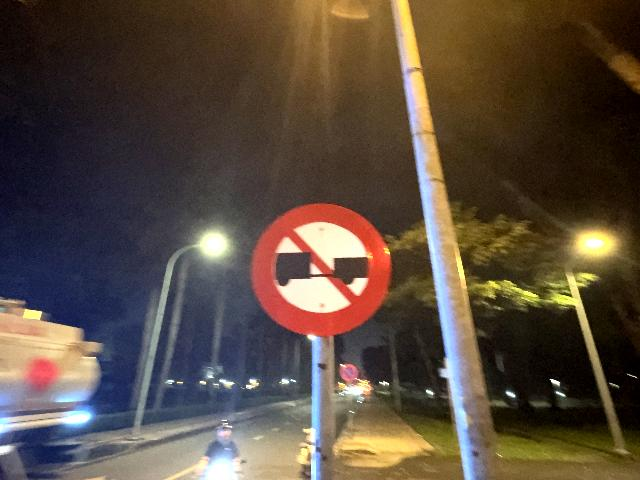cam-xe-somi-romooc: (252, 201, 391, 337)
